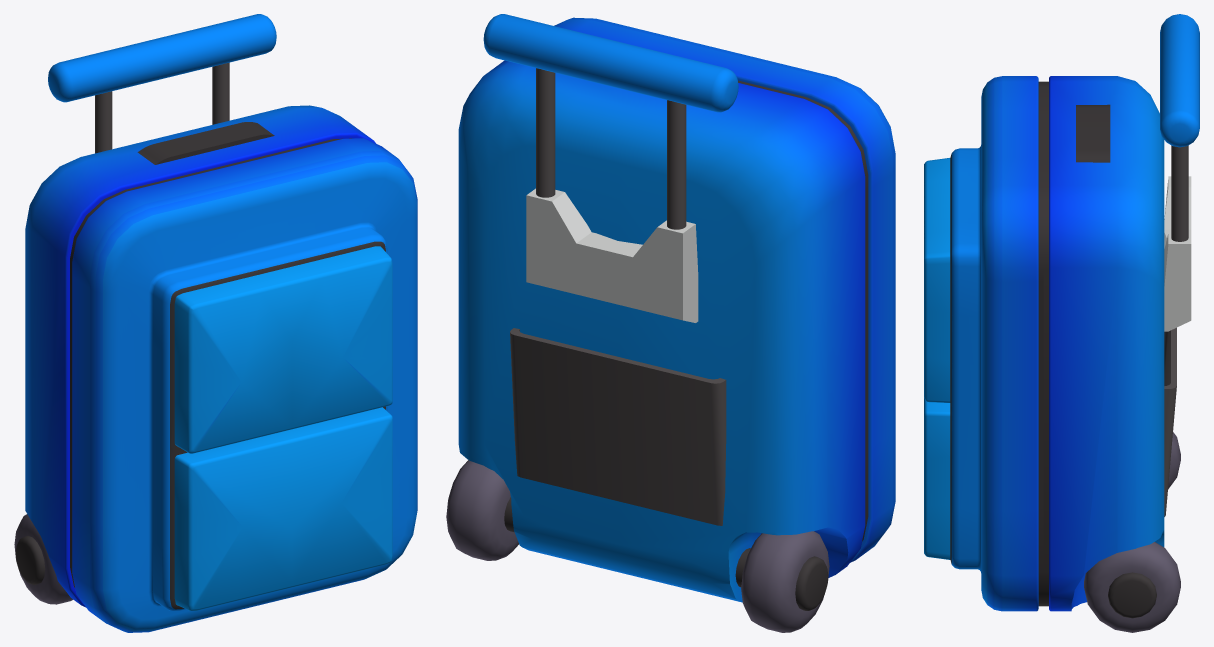
Rendered from Baggage_4_Blue.fbx.
The picture shows the model from 3 angles, left to right: view 1: azimuth 30°, elevation 25°; view 2: azimuth 150°, elevation 25°; view 3: azimuth 270°, elevation 25°; orthographic projection. The views are drawn at different scales.
Parts seen in each view (by area): view 1: Baggage_4_Blue; view 2: Baggage_4_Blue; view 3: Baggage_4_Blue.
Boxes of the visible parts, x1=… form: Baggage_4_Blue: x1=14, y1=14, x2=417, y2=632; Baggage_4_Blue: x1=446, y1=14, x2=895, y2=632; Baggage_4_Blue: x1=924, y1=14, x2=1199, y2=632.
Size of the model in its own units: 62.48 by 93.72 by 46.68.
